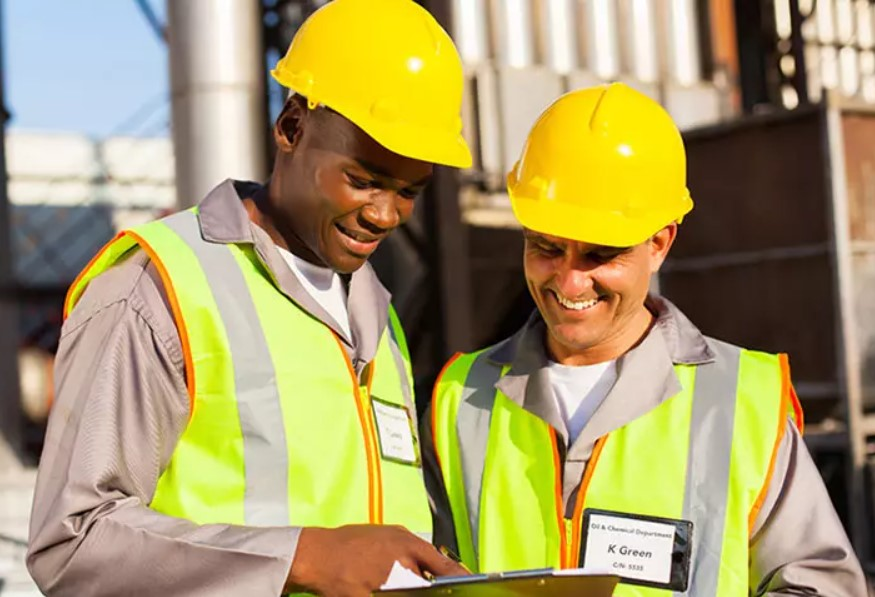worker: (101, 1, 467, 597), (449, 81, 789, 597)
